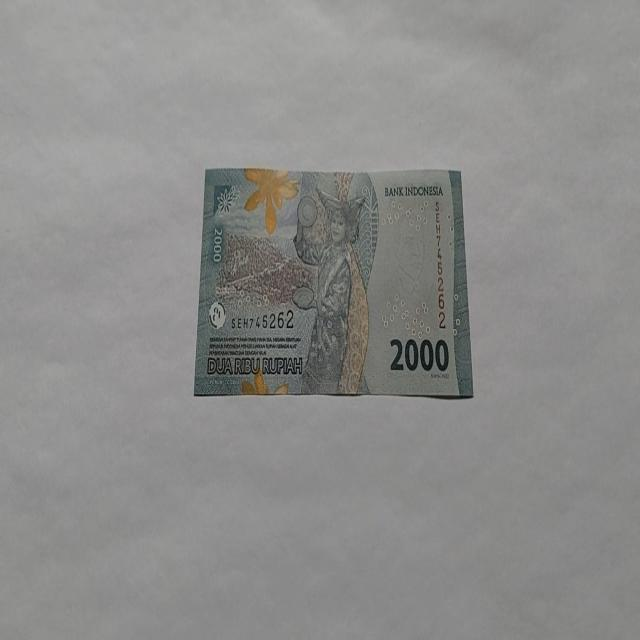dua ribu rupiah: (193, 165, 473, 399), (292, 184, 371, 395)
